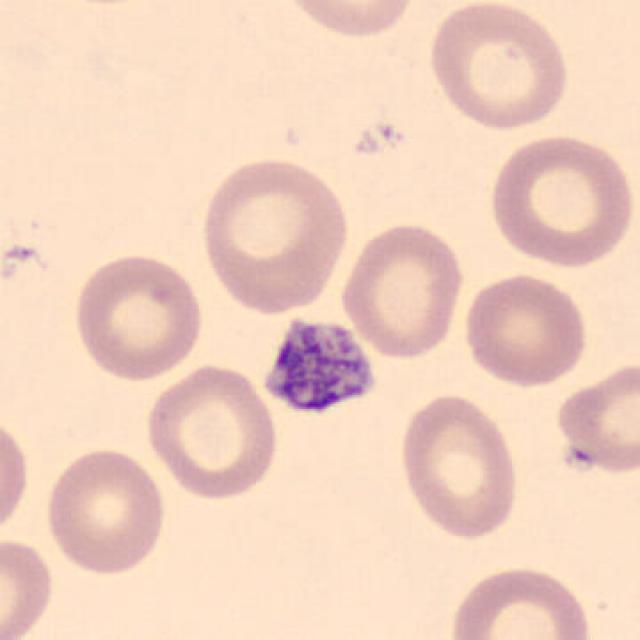Platelets: (256, 308, 382, 425)
RBC: (195, 154, 354, 318), (484, 130, 636, 270), (393, 390, 524, 543), (423, 0, 573, 132), (142, 360, 281, 502), (336, 217, 468, 361), (69, 248, 208, 384), (41, 442, 169, 576), (459, 268, 592, 390), (444, 560, 595, 640), (551, 356, 640, 478), (0, 532, 57, 640), (278, 0, 422, 41), (0, 409, 32, 543)
